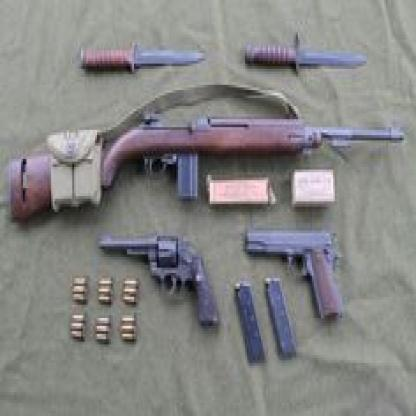Gun: (8, 107, 406, 226)
Knife: (245, 31, 368, 77), (80, 39, 207, 78)
Pistol: (97, 228, 219, 330), (245, 227, 344, 324)
